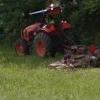Tractor: (14, 5, 81, 61)
